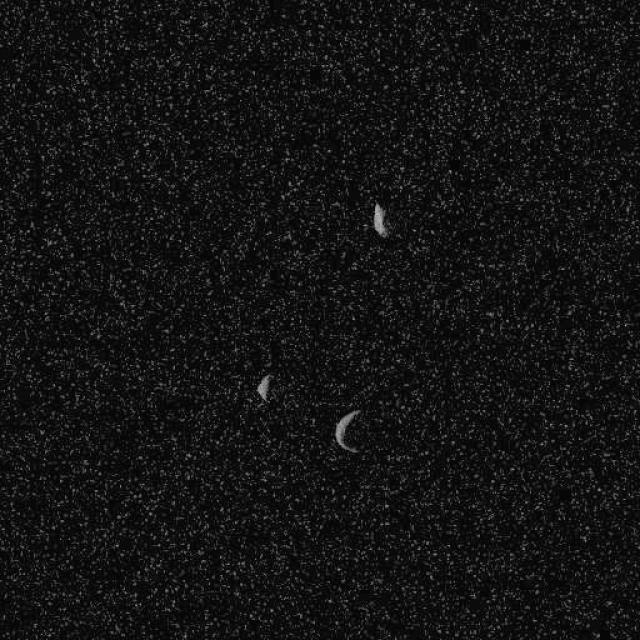D2: (332, 408, 362, 453), (371, 202, 389, 238), (255, 372, 274, 402)
